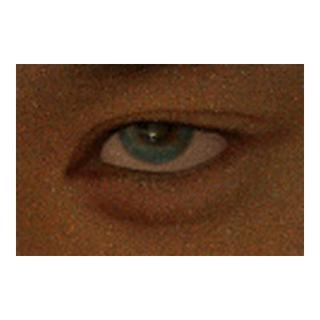pupil: (141, 109, 171, 139)
